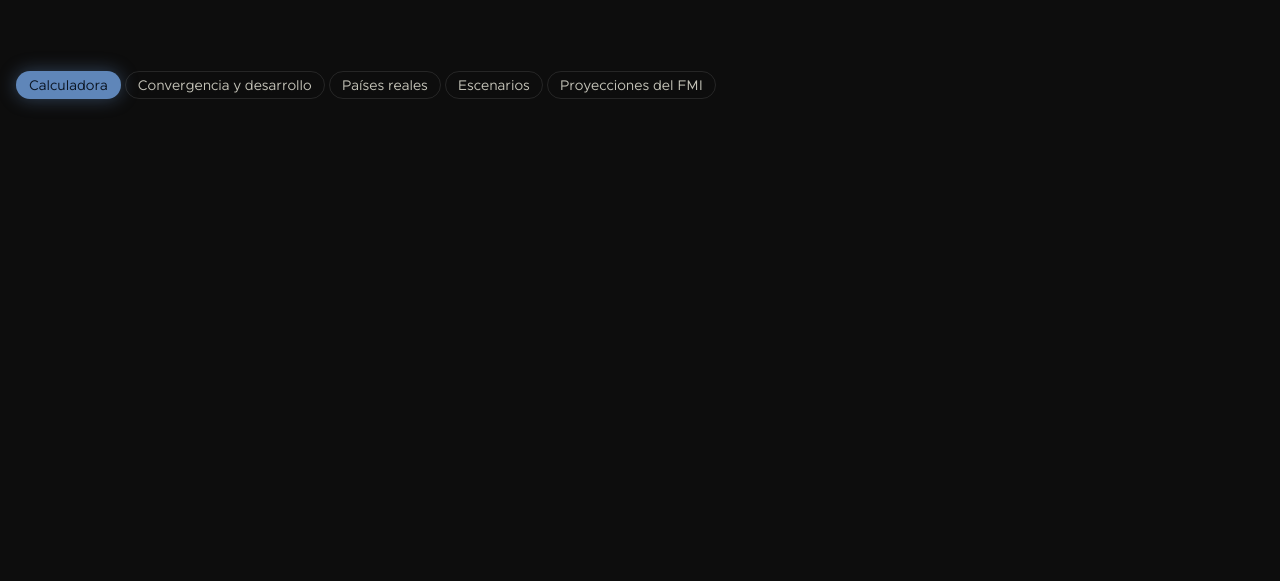
Test: the look of the tabs and of the title › names the case with the indicator as it is written (PBI in capitals)
Click the tab "Países reales". click: (385, 85)
box: [329,71,441,99]
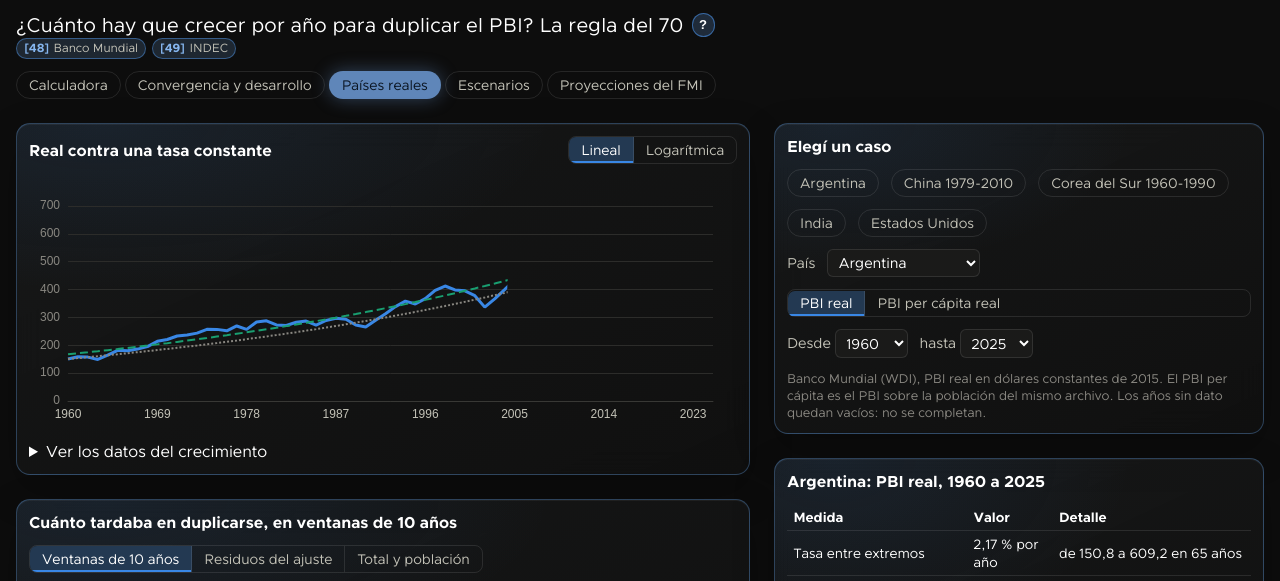
Check: the heading "Argentina: PBI real, 1960 a 2025" is shown, box [787,471,1046,492]
